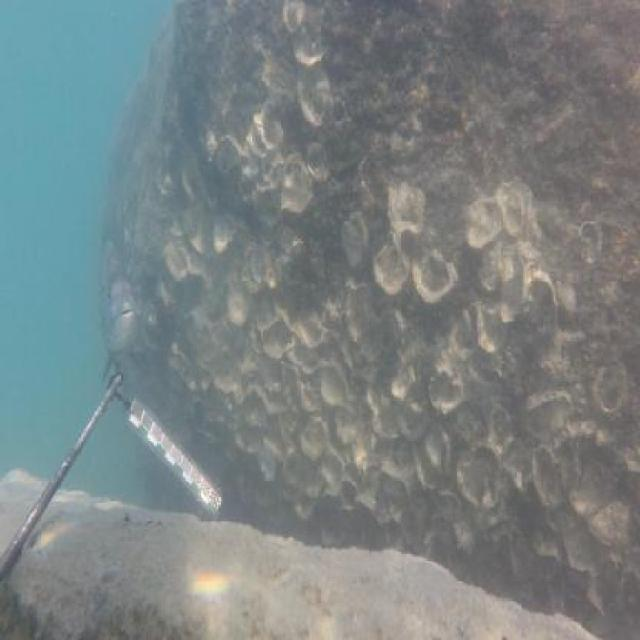acanthopagrus_palmaris: (94, 228, 144, 386)
